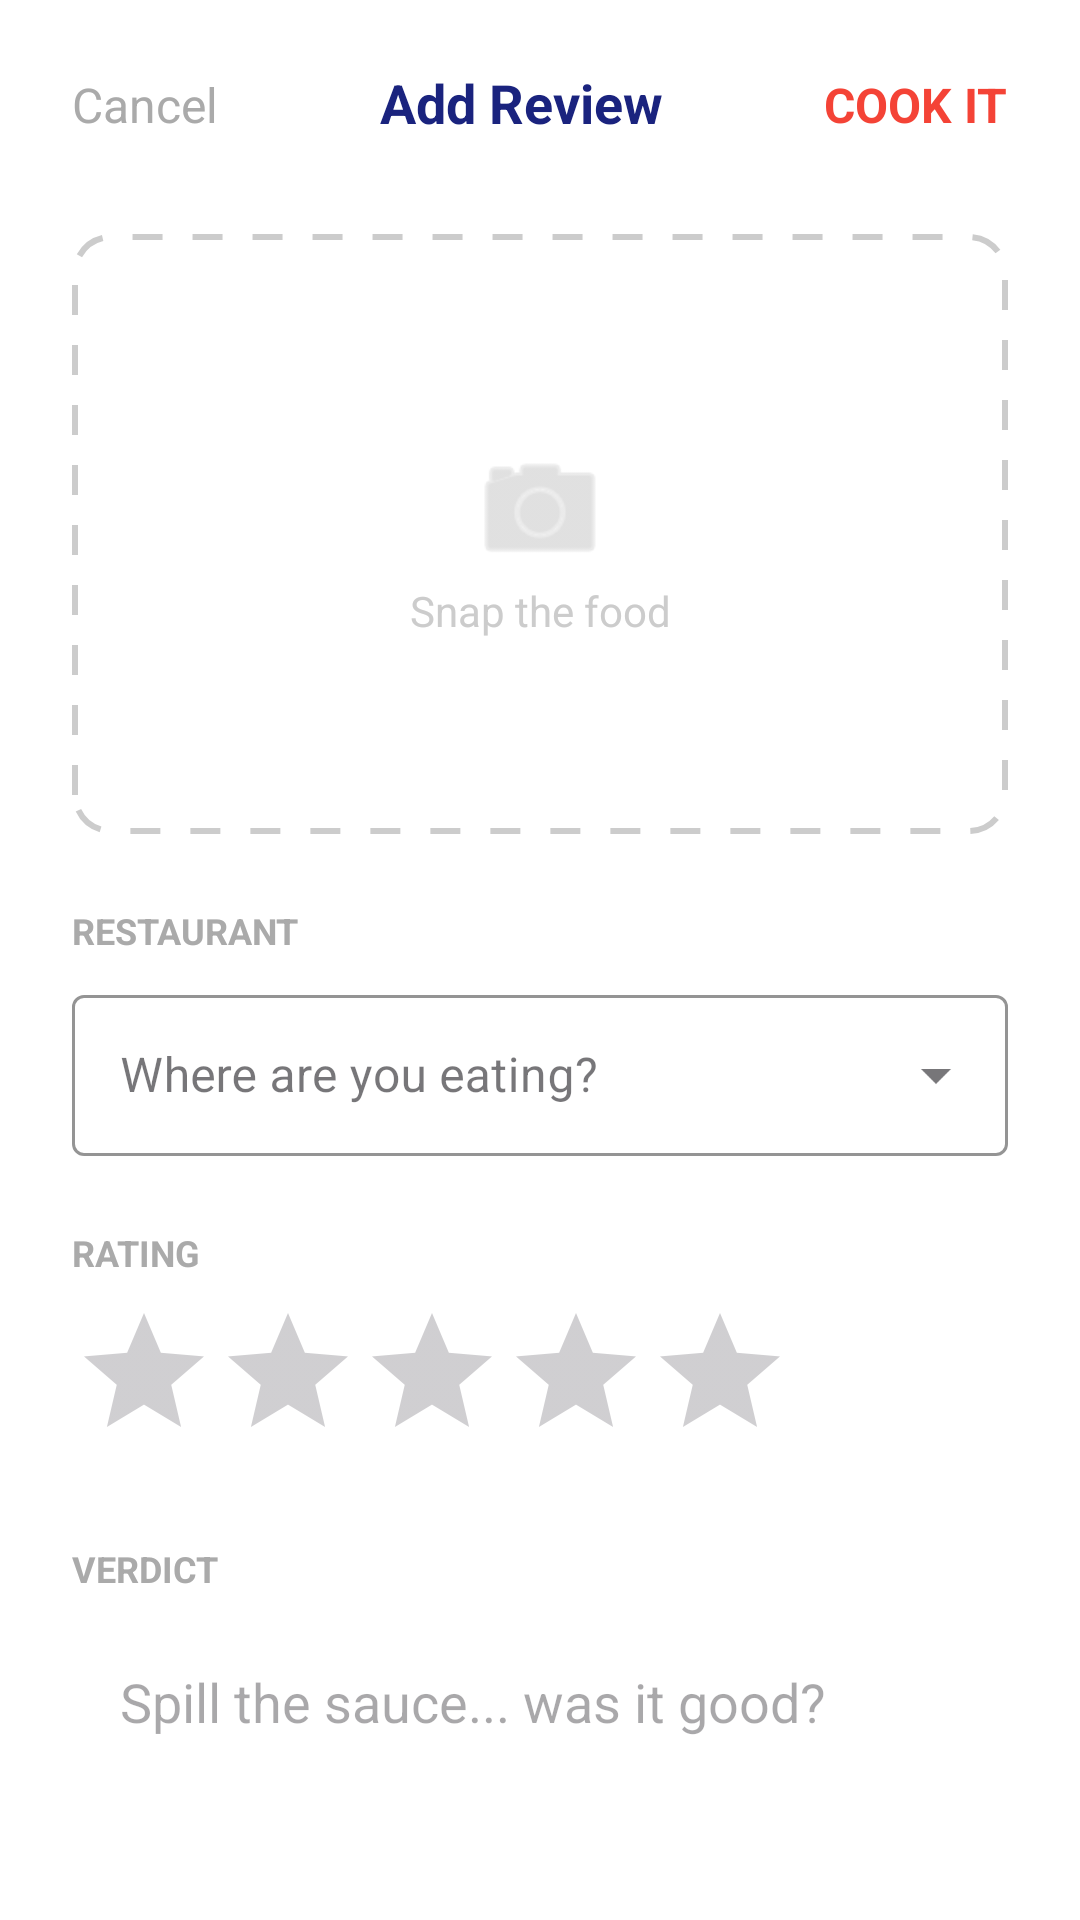

Icon bounding boxes for this 1080x1920 phone screenshot, format (x1, y1, x2, y2):
camera: (488, 467, 592, 549)
